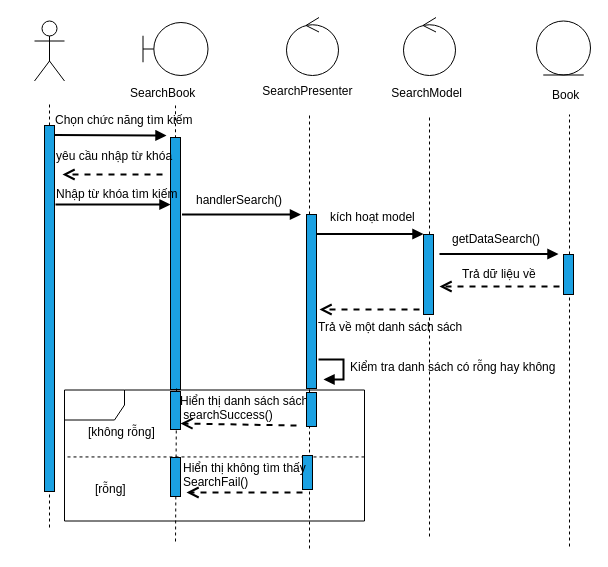
Image size: 608x567. Some labels were removed from this diagram. Here are the shapes that lost their labels. From the top down, the box of each, then its label:
(34, 20, 64, 81): Người dùng
(64, 389, 364, 521): alt
